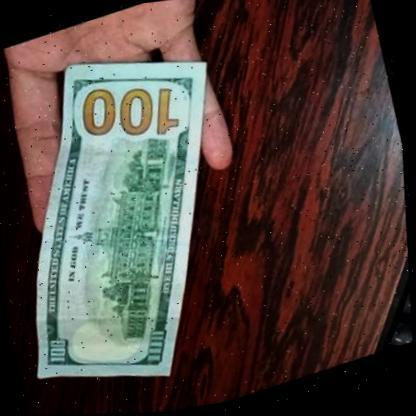dollar_back: (0, 8, 288, 416)
